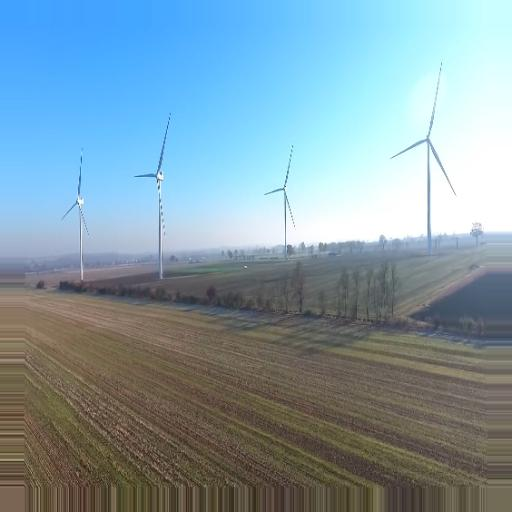wind turbine: (391, 60, 457, 239), (131, 110, 173, 282), (63, 147, 96, 282), (260, 143, 299, 252)
